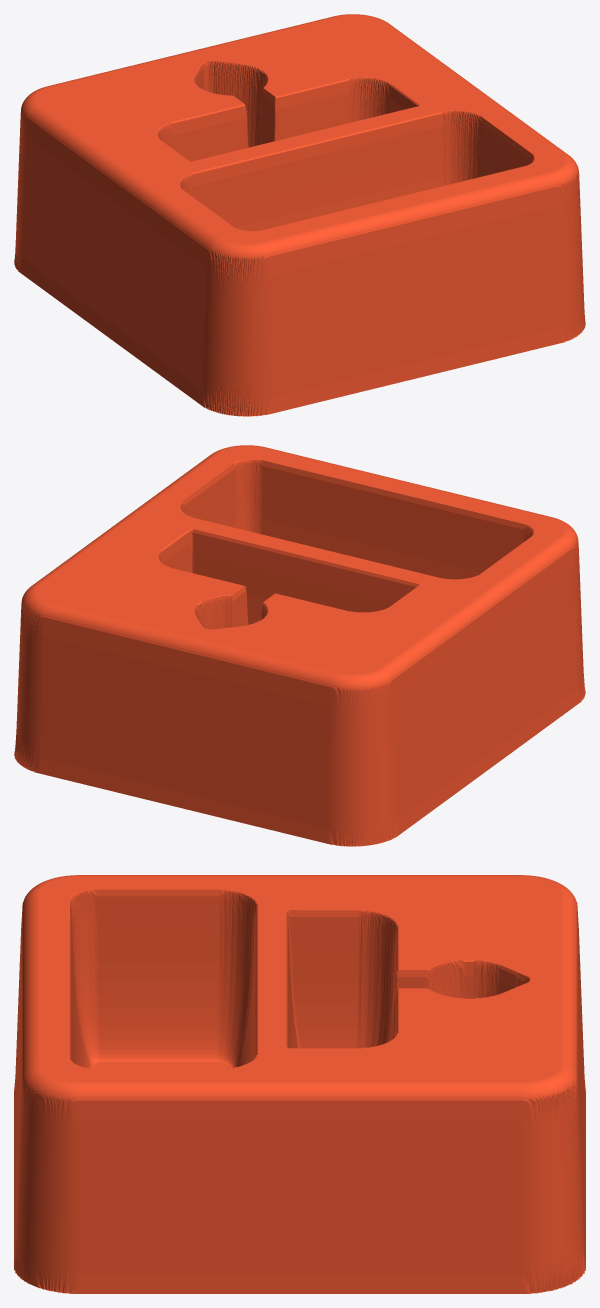
The model's file is mold.glb.
3 renders of one model, top to bottom at view 1: azimuth 30°, elevation 25°; view 2: azimuth 150°, elevation 25°; view 3: azimuth 270°, elevation 25°, orthographic. The views are drawn at different scales.
Visible parts, largest first — view 1: geometry_0; view 2: geometry_0; view 3: geometry_0.
Boxes of the visible parts, x1,y1,x2,y2 form: geometry_0: (14,14,585,416); geometry_0: (14,445,585,846); geometry_0: (14,875,585,1293).
Bounding box in the file's own units: 0.0748 × 0.031 × 0.0798.
